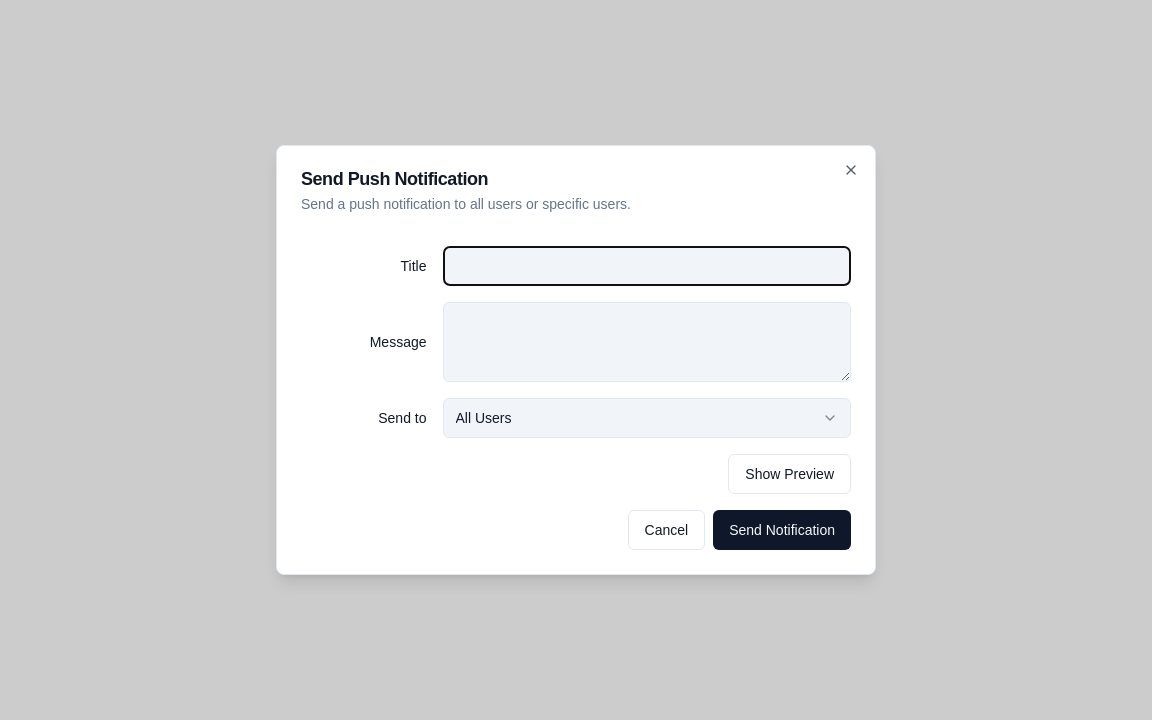
NotificationForm › shows notification preview when clicking "Show Preview" button
This screenshot has width=1152, height=720.
// Заполняем форму
Step 1. Type "Test Title" into the field labelled "Title" → x=647, y=266, box [442, 246, 851, 286]
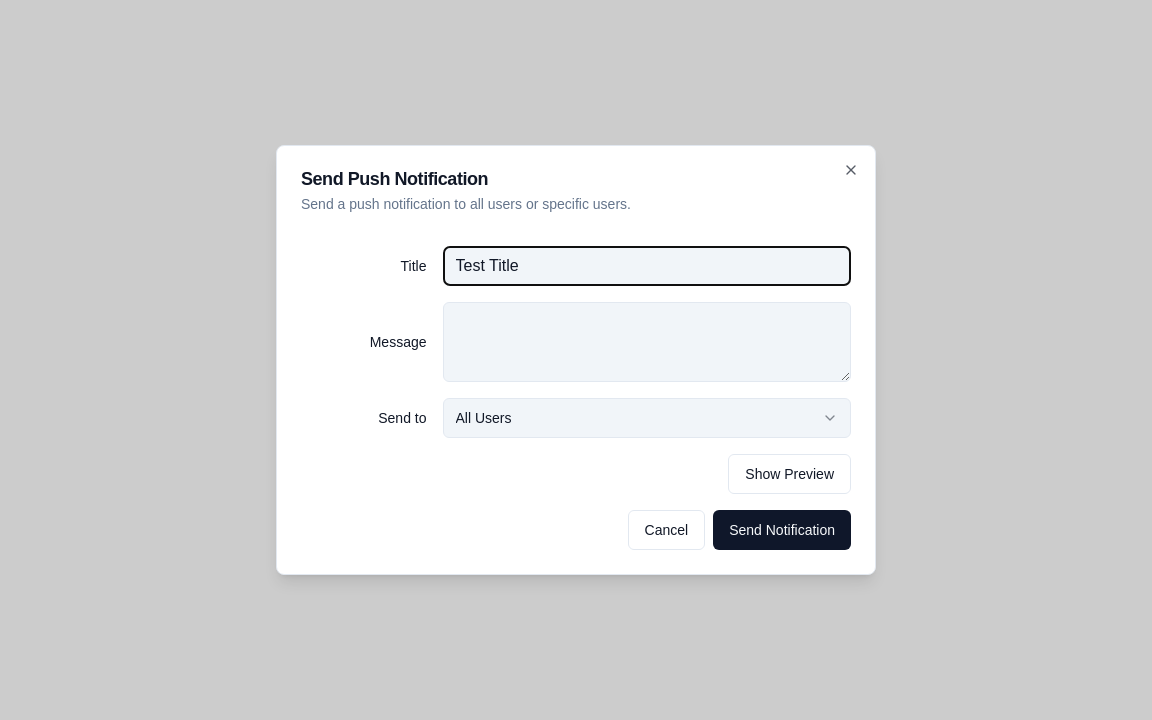
Step 2. Type "Test Message" into the text box labelled "Message" → x=647, y=342, box [442, 302, 851, 382]
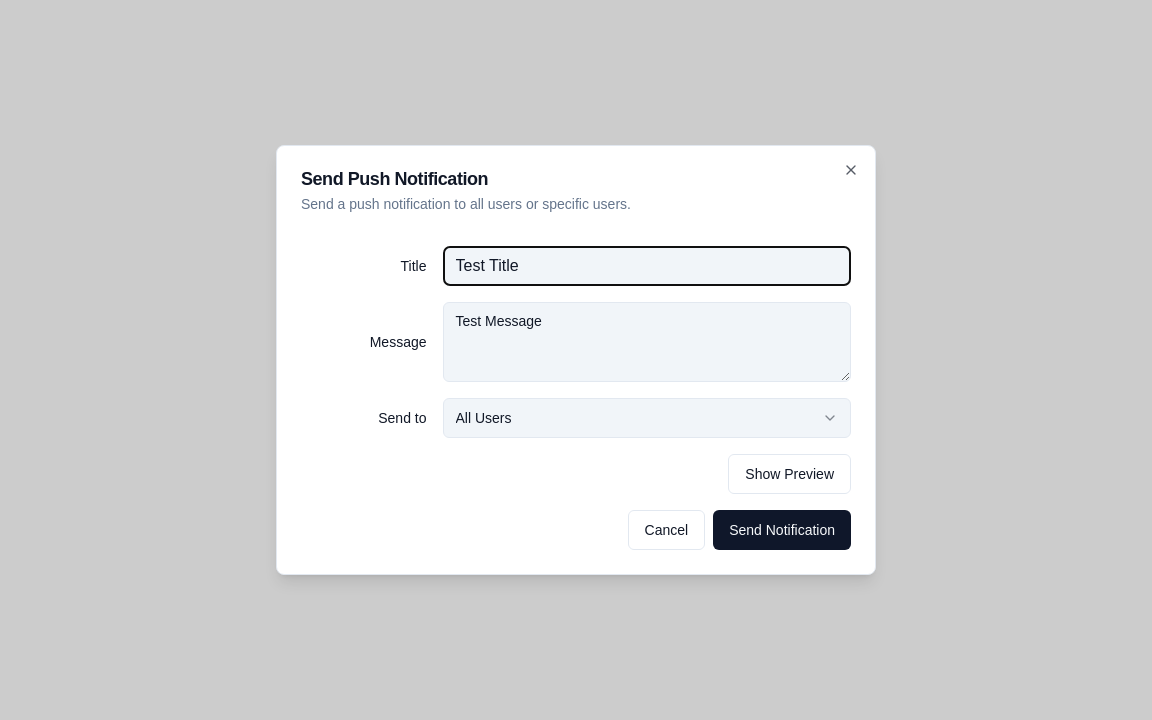
// Нажимаем кнопку "Show Preview"
Step 3. Click the button "Show Preview" → x=790, y=474, box [728, 454, 851, 494]
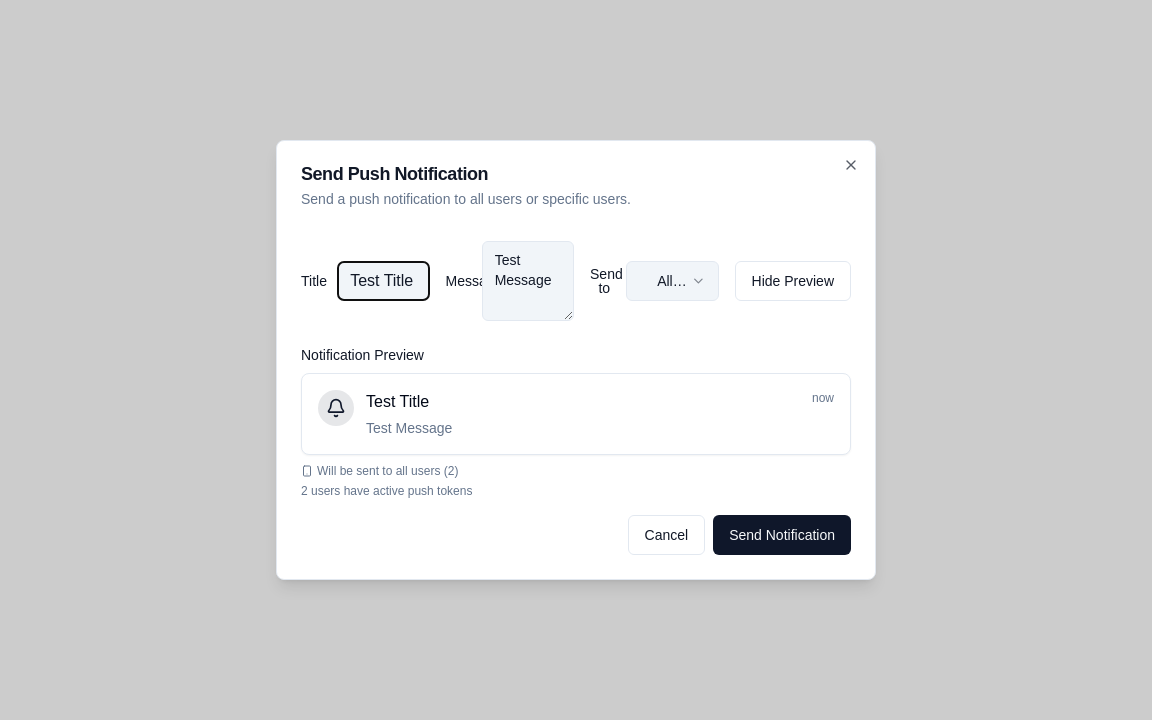
Now the heading "Notification Preview" is shown, box [301, 347, 424, 363]
Now the text "Test Title" is shown, box [366, 393, 429, 410]
Now the text "Test Message" is shown, box [366, 420, 452, 436]
